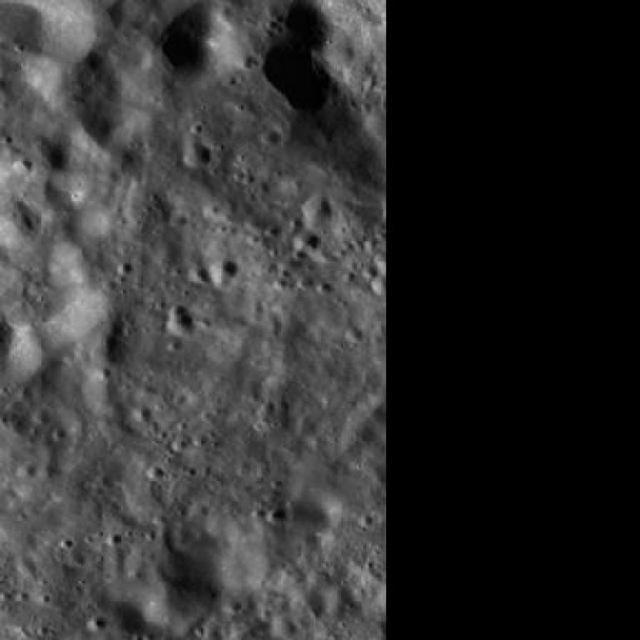crater: (0, 200, 42, 248), (123, 185, 166, 224), (342, 406, 380, 440), (300, 196, 334, 227), (359, 396, 393, 426), (334, 430, 362, 456), (185, 144, 213, 168), (210, 257, 236, 280), (167, 313, 193, 336), (272, 616, 297, 638), (293, 231, 319, 252), (294, 413, 317, 433), (372, 274, 394, 294), (265, 503, 287, 522), (16, 558, 38, 577), (13, 158, 33, 176), (262, 130, 282, 147), (0, 53, 14, 75), (189, 266, 208, 282), (88, 615, 107, 631), (18, 462, 37, 478)
